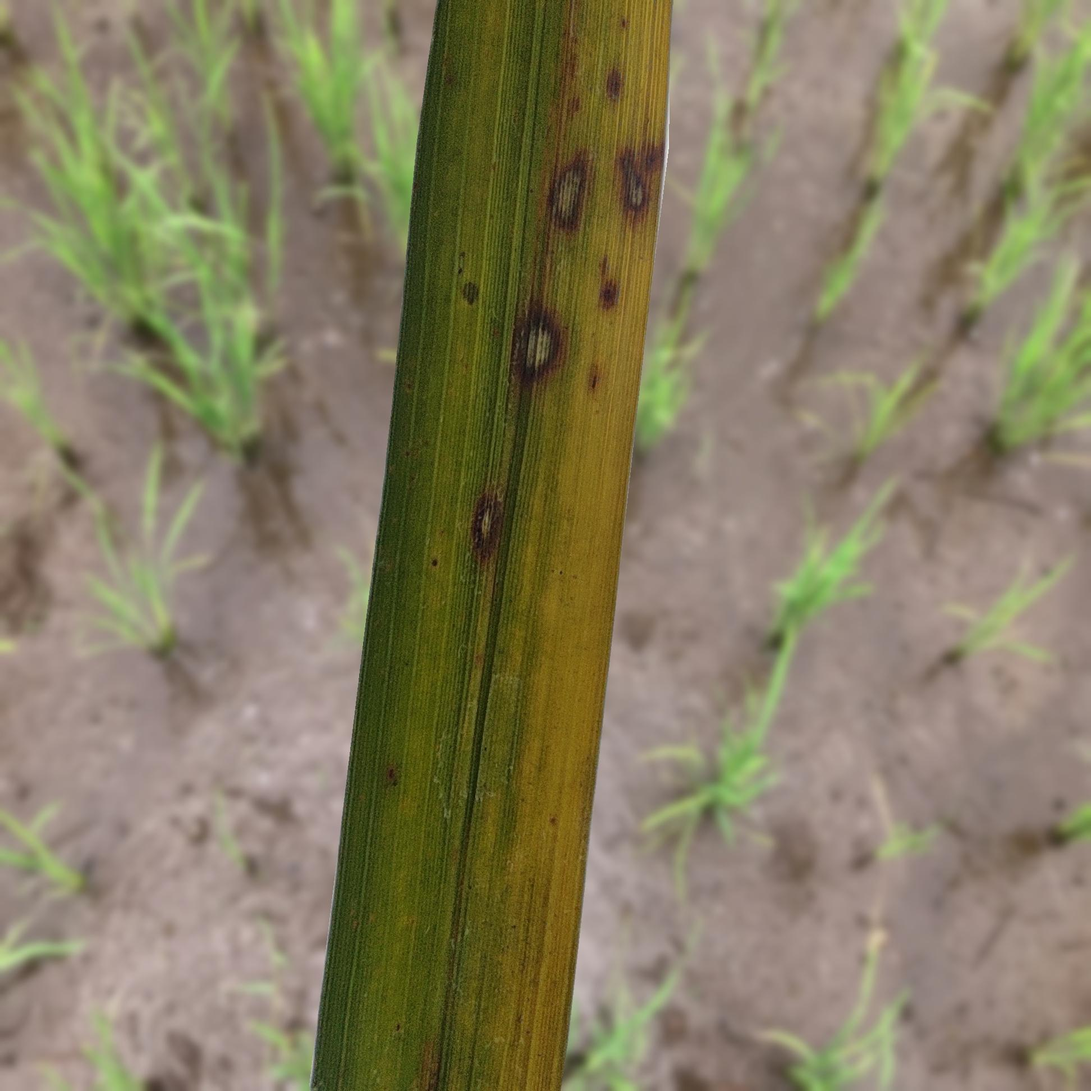LEAF BLAST: (512, 304, 563, 381), (616, 143, 662, 222), (550, 152, 588, 230), (471, 492, 502, 560)
